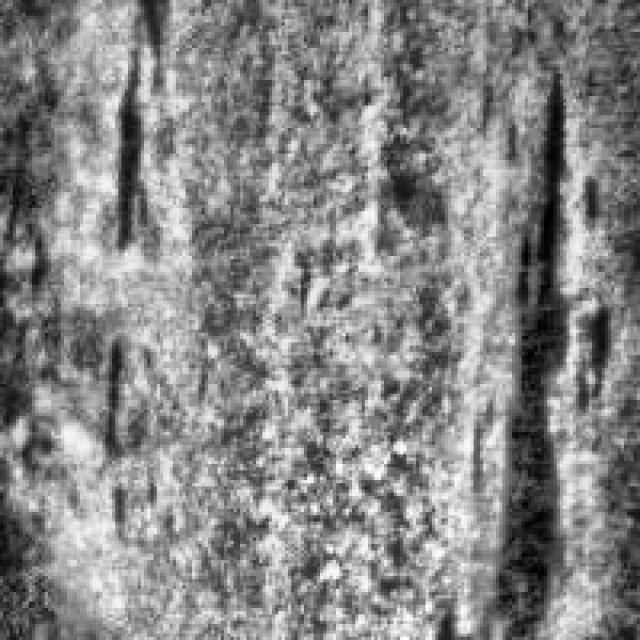Patches: (467, 60, 608, 630), (92, 0, 180, 259), (84, 342, 150, 460)
